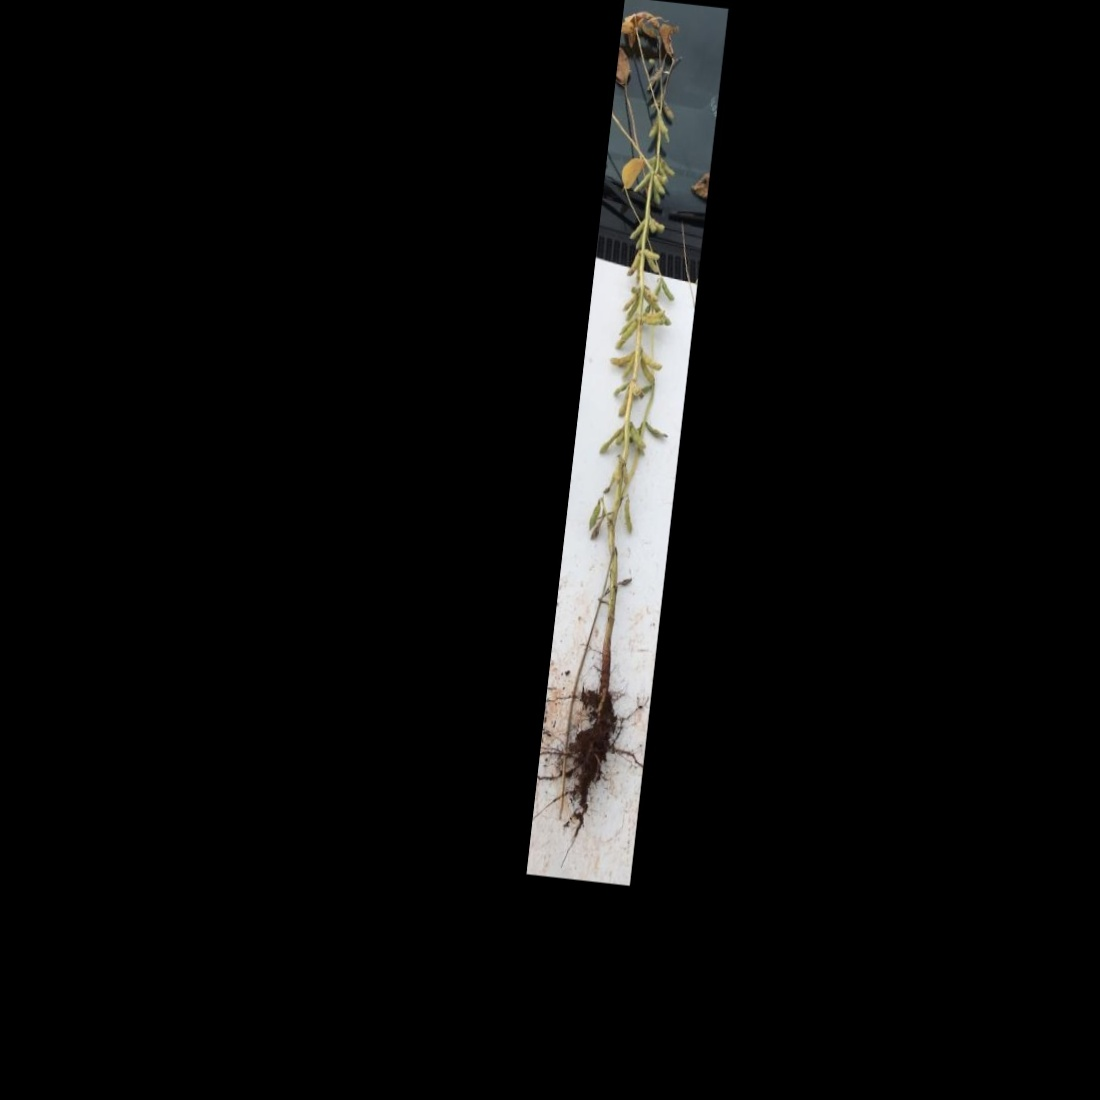pod: (616, 492, 639, 538), (580, 500, 602, 532), (635, 358, 659, 387), (643, 419, 671, 443), (629, 170, 653, 197), (623, 249, 642, 279), (659, 278, 679, 303), (660, 96, 678, 121), (628, 217, 646, 242), (615, 391, 630, 419), (622, 356, 635, 380), (610, 380, 630, 396), (642, 247, 662, 261)
soy: (536, 22, 724, 844)
